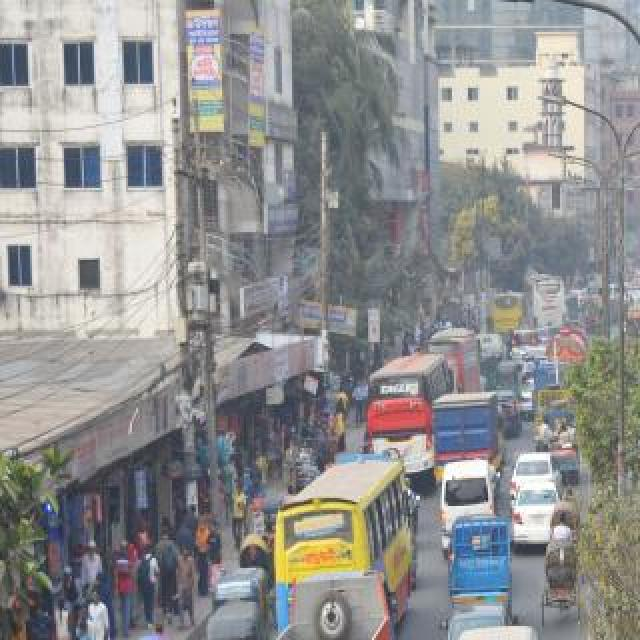bus: (269, 451, 417, 611), (359, 347, 451, 463), (429, 323, 481, 393), (523, 271, 567, 331), (489, 290, 529, 334), (626, 302, 640, 380), (624, 282, 640, 310)
car: (513, 479, 573, 551), (442, 600, 522, 640), (508, 452, 560, 494), (496, 386, 522, 438), (524, 378, 534, 416)
motorbike: (525, 353, 537, 383)
truck: (250, 566, 396, 640), (550, 327, 590, 371)
van: (446, 512, 514, 614), (432, 387, 504, 469), (439, 457, 499, 553), (540, 405, 582, 477), (533, 358, 575, 412), (533, 386, 573, 436), (434, 628, 562, 640), (512, 324, 538, 362)
